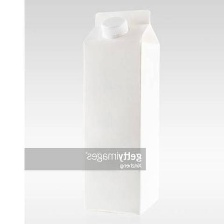carton: (66, 7, 164, 219)
